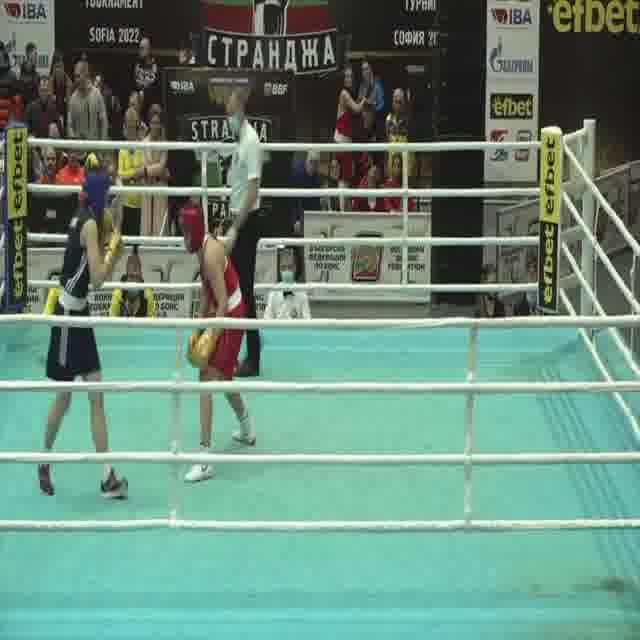blue-player: (33, 163, 133, 504)
red-player: (173, 196, 258, 487)
referee: (214, 87, 265, 385)
